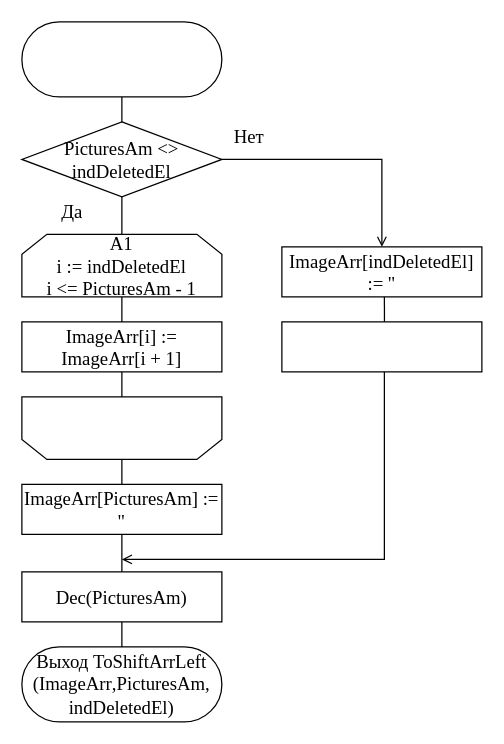
This 504x744 diagram has some shape labels left out. Each missing label, with the box of its shape:
dec(indDeletedEl): (281, 321, 482, 372)
Inc(i) A1: (21, 396, 222, 459)
Вход ToShiftArrLeft ( ImageArr , PicturesAm, indDeletedEl ): (21, 21, 222, 97)
